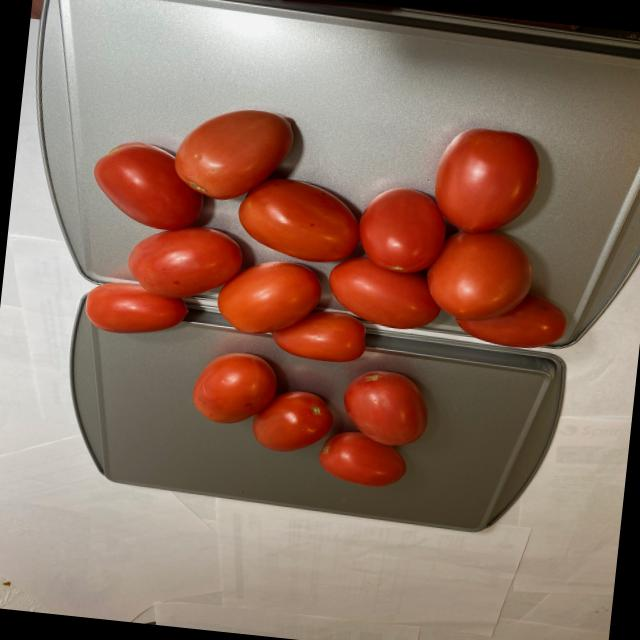tomato: (66, 84, 584, 501)
